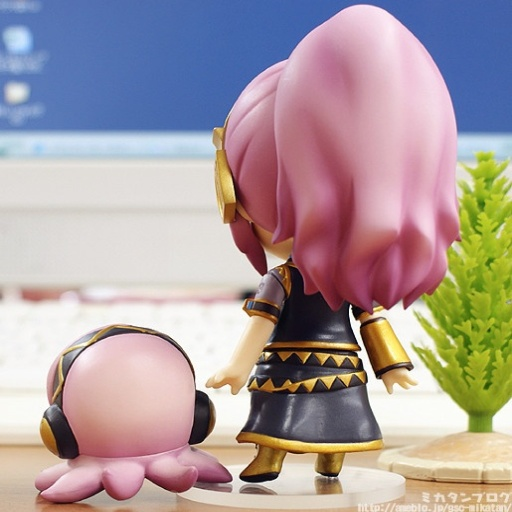hand: (201, 363, 249, 396), (379, 367, 418, 395)
